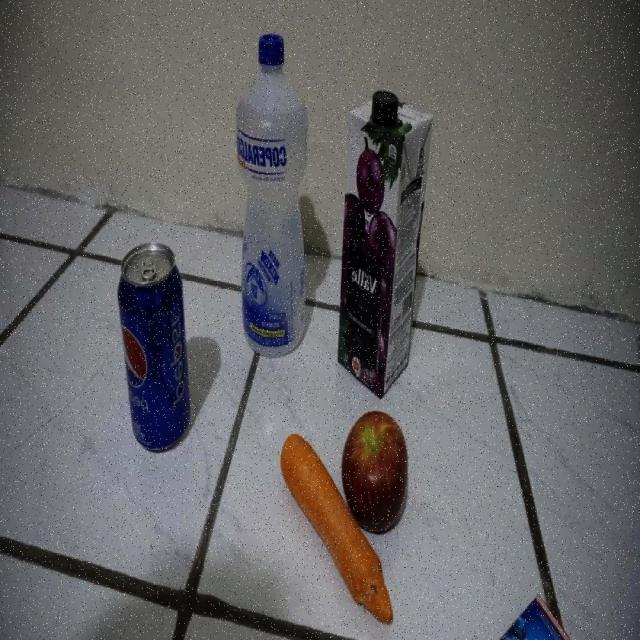AlcoholBottle: (234, 30, 308, 357)
Apple: (341, 411, 407, 533)
Carrot: (280, 433, 342, 581)
Gelatine: (497, 594, 572, 639)
SodaCan: (118, 242, 193, 453)
